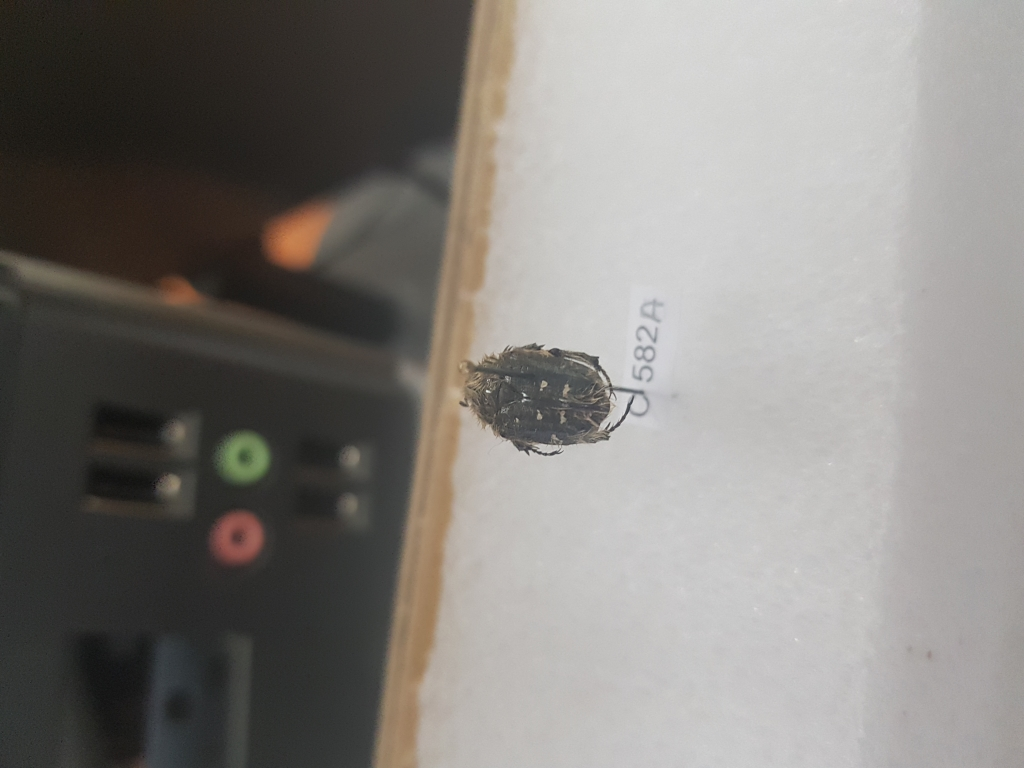Tropinota_hirta: (451, 336, 646, 463)
